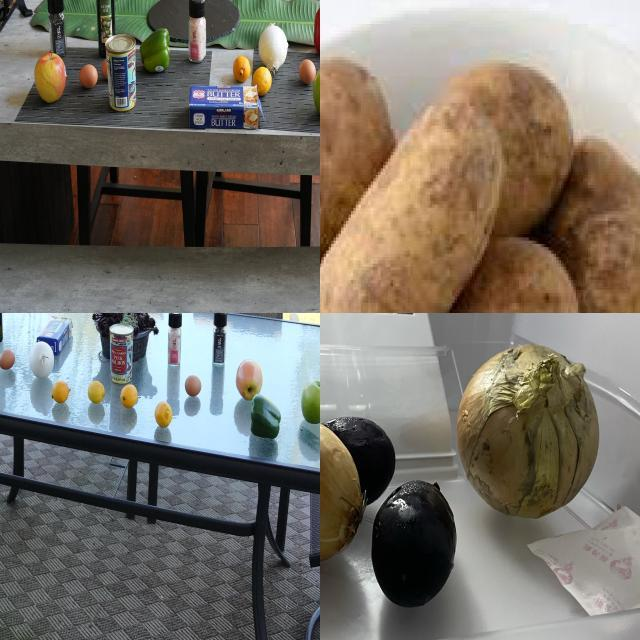bell_pepper: (43, 1, 71, 66), (247, 394, 283, 441), (141, 28, 173, 74), (209, 314, 231, 367), (96, 314, 118, 360), (312, 1, 321, 53)
egg: (297, 56, 319, 88), (80, 63, 102, 93), (186, 376, 206, 403), (1, 348, 19, 375), (100, 61, 114, 83)
eggplant: (372, 475, 462, 615), (324, 421, 400, 507)
onion: (458, 344, 602, 519), (321, 416, 366, 577), (259, 21, 291, 66), (26, 343, 56, 383)
potato: (321, 101, 502, 314), (446, 63, 572, 243), (321, 60, 399, 305), (557, 136, 640, 314), (451, 240, 586, 314)
